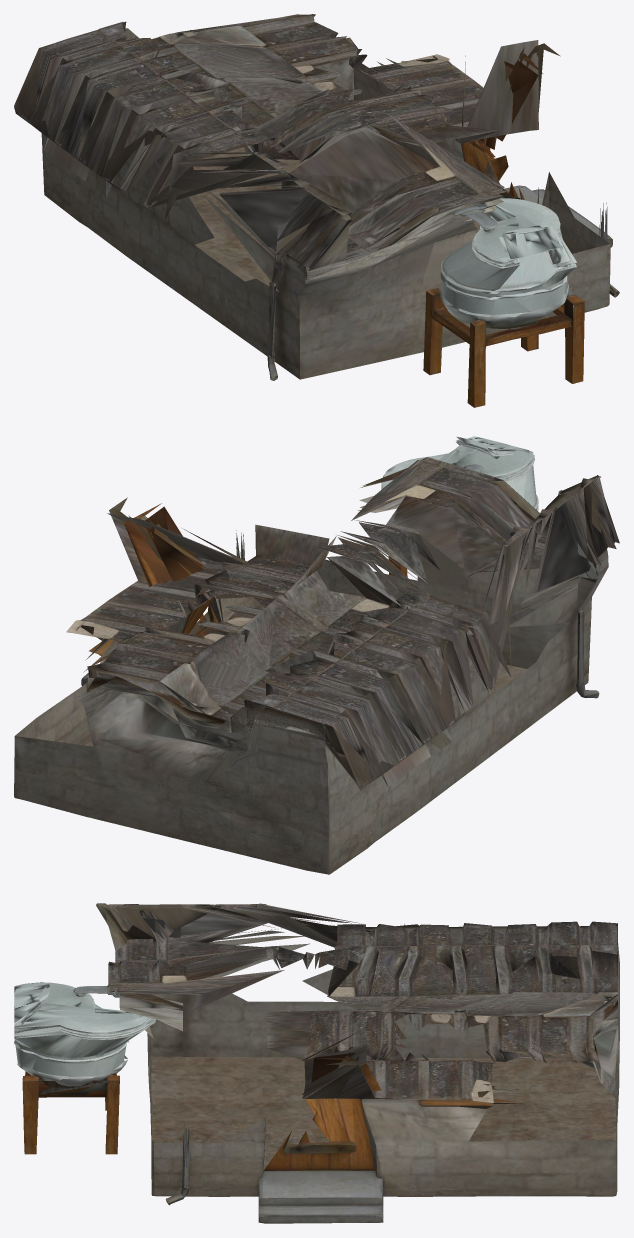
File: pump_house_wreck.glb
The picture shows the model from 3 angles, top to bottom: view 1: azimuth 30°, elevation 25°; view 2: azimuth 150°, elevation 25°; view 3: azimuth 270°, elevation 25°; orthographic projection. The views are drawn at different scales.
Visible parts, largest first — view 1: wall.001, roof.001; view 2: wall.001, roof.001; view 3: wall.001, roof.001.
Boxes of the visible parts, x1,y1,x2,y2 form: wall.001: [14, 14, 619, 407]; roof.001: [14, 14, 542, 267]; wall.001: [14, 436, 619, 874]; roof.001: [66, 457, 616, 789]; wall.001: [14, 903, 619, 1223]; roof.001: [74, 903, 617, 1102].
Size of the model in its own units: 3.93 by 1.7 by 5.63.
Materials: 1 (1 with a texture image).
